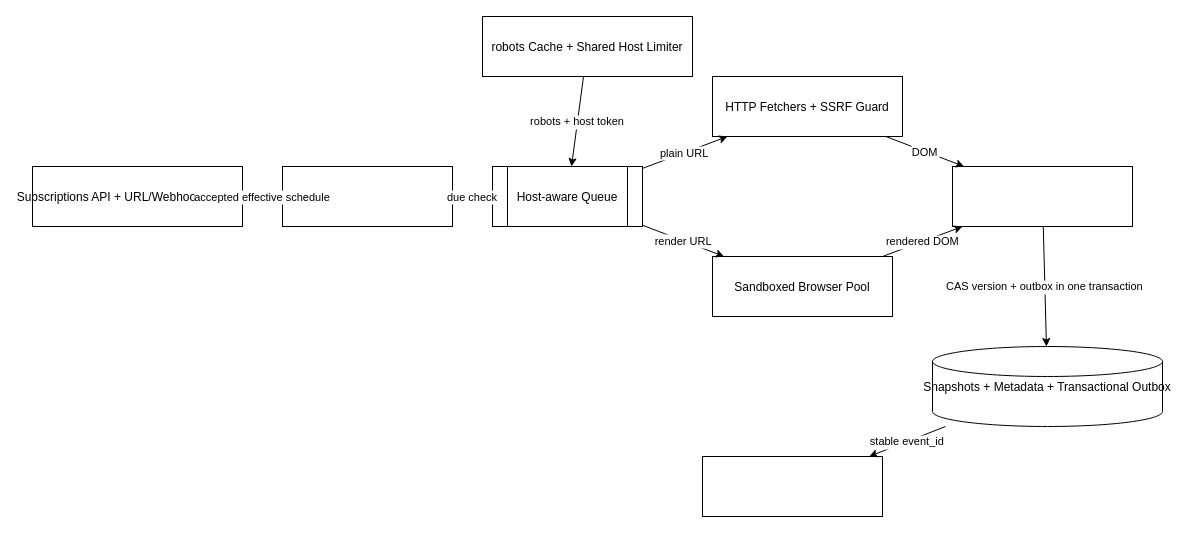
This 1187x533 diagram has some shape labels left out. Each missing label, with the centre of its shape:
Bucket Scheduler + Lease: point 367,196
Normalizer + Versioned Diff: point 1042,196
Signed Webhook Workers: point 792,486
